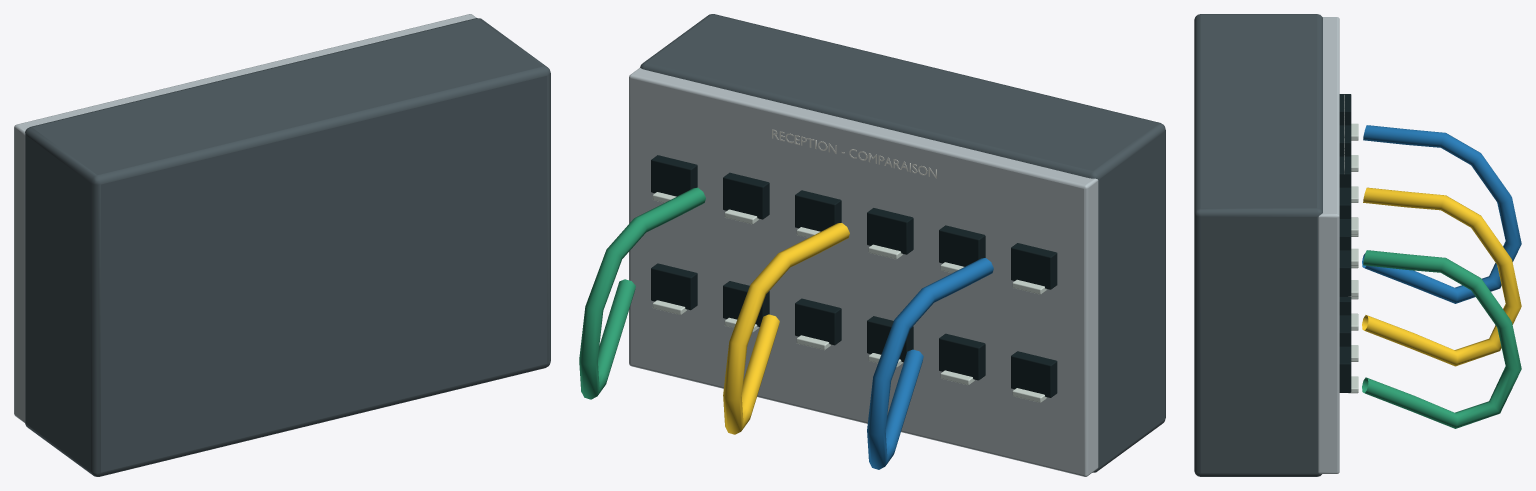
The model's file is patch_panel.glb.
3 views of the same model, side by side, from view 1: azimuth 30°, elevation 25°; view 2: azimuth 150°, elevation 25°; view 3: azimuth 270°, elevation 25° (orthographic). The views are drawn at different scales.
Visible parts, largest first — view 1: patch_panel_render_mesh; view 2: patch_panel_render_mesh; view 3: patch_panel_render_mesh.
Boxes of the visible parts, left/top/right/bottom form: patch_panel_render_mesh: left=14, top=14, right=550, bottom=476; patch_panel_render_mesh: left=579, top=14, right=1165, bottom=476; patch_panel_render_mesh: left=1194, top=14, right=1521, bottom=476.
Bounding box in the file's own units: 0.51 × 0.32 × 0.3544.
